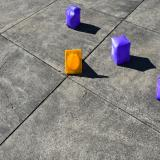cone: (65, 49, 82, 75)
cube: (111, 34, 131, 66), (66, 4, 80, 30), (156, 76, 160, 100)
